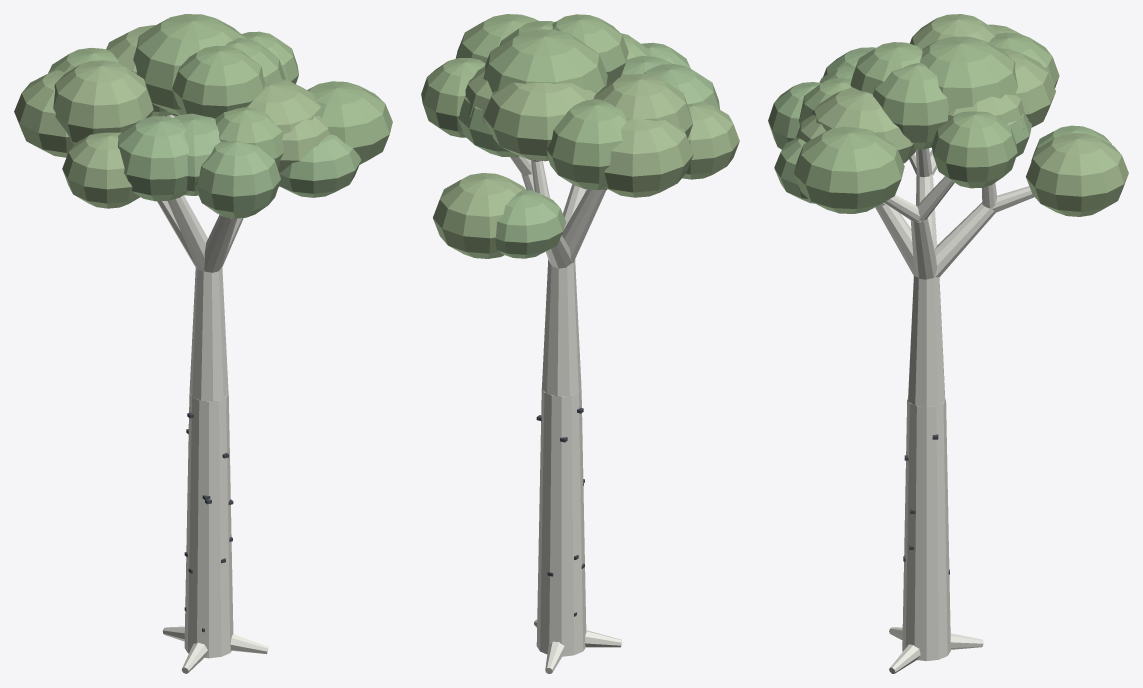
File: a-low-poly-birch-tree-7-metres-tall-85321-lowpoly.glb
3 views of the same model, side by side, from view 1: azimuth 30°, elevation 25°; view 2: azimuth 150°, elevation 25°; view 3: azimuth 270°, elevation 25° (orthographic). The views are drawn at different scales.
Visible parts, largest first — view 1: tree; view 2: tree; view 3: tree.
Boxes of the visible parts, x1,y1,x2,y2 form: tree: (14, 14, 392, 673); tree: (421, 14, 739, 673); tree: (768, 14, 1128, 673).
Size of the model in its own units: 4.75 by 9.58 by 5.13.
